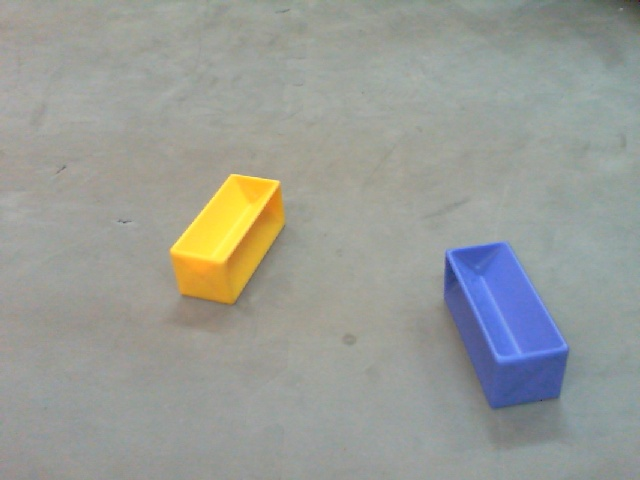BlueSample: (440, 240, 570, 413)
YellowSample: (164, 172, 289, 307)
